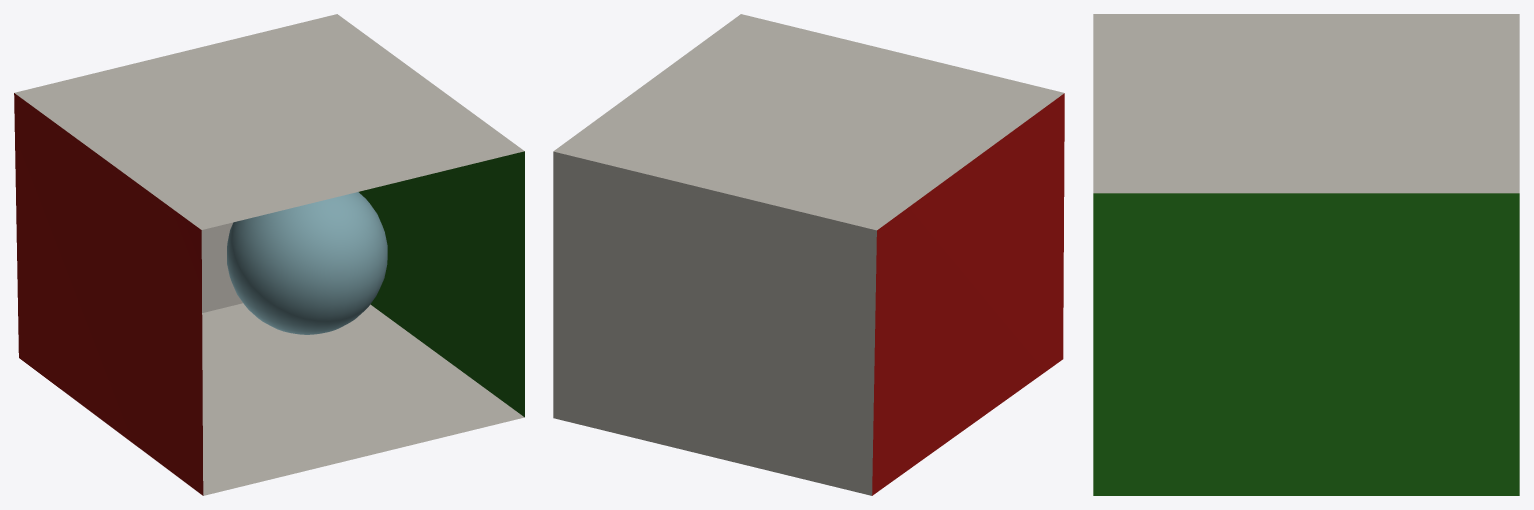
The model's file is CornellBox-Glossy.obj.
The picture shows the model from 3 angles, left to right: view 1: azimuth 30°, elevation 25°; view 2: azimuth 150°, elevation 25°; view 3: azimuth 270°, elevation 25°; orthographic projection. The views are drawn at different scales.
Parts seen in each view (by area): view 1: ceiling, leftWall, floor, rightWall, sphere, backWall; view 2: backWall, ceiling, leftWall; view 3: rightWall, ceiling.
Part boxes in pixels (x1=…): ceiling: x1=14, y1=14, x2=524, y2=229; leftWall: x1=14, y1=93, x2=203, y2=495; floor: x1=202, y1=303, x2=524, y2=495; rightWall: x1=359, y1=151, x2=524, y2=417; sphere: x1=227, y1=192, x2=387, y2=334; backWall: x1=201, y1=222, x2=242, y2=312; backWall: x1=553, y1=151, x2=876, y2=495; ceiling: x1=553, y1=14, x2=1064, y2=230; leftWall: x1=872, y1=93, x2=1064, y2=495; rightWall: x1=1093, y1=193, x2=1519, y2=495; ceiling: x1=1093, y1=14, x2=1519, y2=193.
Size of the model in its own units: 2.02 by 1.59 by 2.03.
